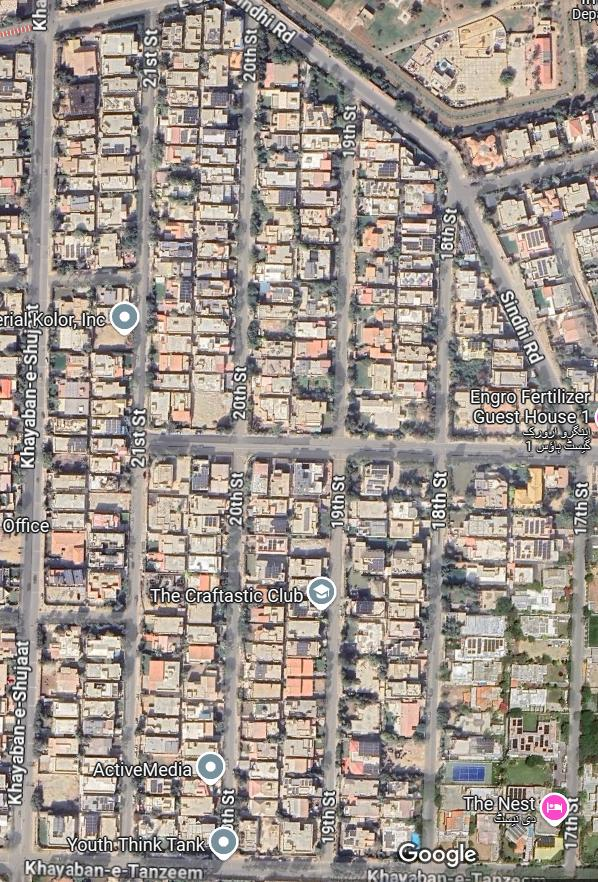Buildings: (440, 456, 575, 857), (144, 5, 245, 426), (234, 460, 335, 852), (255, 20, 347, 436), (341, 464, 429, 854), (136, 453, 223, 839), (32, 295, 130, 620), (352, 98, 445, 431), (443, 200, 565, 445), (54, 23, 143, 273), (40, 626, 123, 858)
